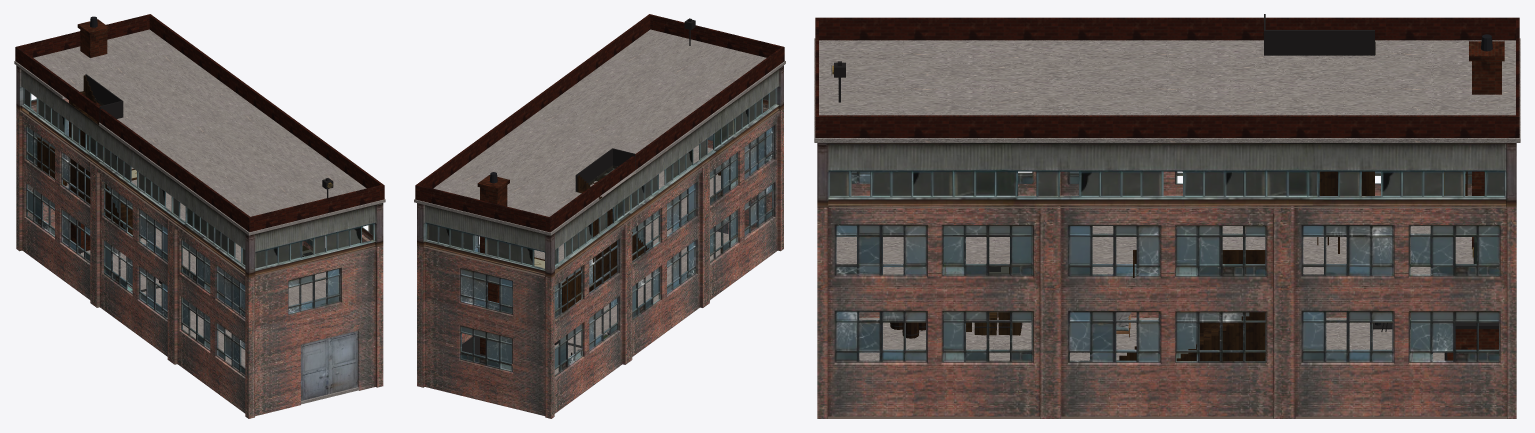
The model's file is marsh-refinery.glb.
3 views of the same model, side by side, from view 1: azimuth 30°, elevation 25°; view 2: azimuth 150°, elevation 25°; view 3: azimuth 270°, elevation 25° (orthographic). The views are drawn at different scales.
Parts seen in each view (by area): view 1: building _building _0, building floor, building top, Mesh_parapet, building windows, Mesh_stair, building _building _02, Mesh_iron, Mesh_firebrick, Mesh_oak4; view 2: building _building _0, building floor, building top, Mesh_parapet, building windows, Mesh_stair, Mesh_iron, Mesh_firebrick, Mesh_oak4, building _building _02; view 3: building _building _0, building floor, building windows, Mesh_parapet, building top, Mesh_stair, Mesh_iron, Mesh_firebrick, Mesh_firebrick2, Mesh_crate, Mesh_firebrick3.
Part boxes in pixels (x1=…): building _building _0: x1=16, y1=98, x2=383, y2=418; building floor: x1=14, y1=29, x2=385, y2=404; building top: x1=16, y1=65, x2=383, y2=278; Mesh_parapet: x1=15, y1=14, x2=384, y2=232; building windows: x1=24, y1=89, x2=372, y2=374; Mesh_stair: x1=69, y1=75, x2=141, y2=238; building _building _02: x1=25, y1=136, x2=376, y2=391; Mesh_iron: x1=85, y1=74, x2=123, y2=122; Mesh_firebrick: x1=80, y1=30, x2=107, y2=106; Mesh_oak4: x1=37, y1=137, x2=67, y2=185; building _building _0: x1=417, y1=104, x2=783, y2=418; building floor: x1=414, y1=29, x2=785, y2=374; building top: x1=417, y1=65, x2=783, y2=278; Mesh_parapet: x1=415, y1=14, x2=784, y2=232; building windows: x1=427, y1=89, x2=775, y2=370; Mesh_stair: x1=577, y1=175, x2=648, y2=292; Mesh_iron: x1=575, y1=148, x2=635, y2=191; Mesh_firebrick: x1=480, y1=185, x2=507, y2=354; Mesh_oak4: x1=562, y1=270, x2=581, y2=312; building _building _02: x1=424, y1=117, x2=777, y2=386; building _building _0: x1=817, y1=171, x2=1516, y2=418; building floor: x1=814, y1=38, x2=1520, y2=360; building windows: x1=830, y1=171, x2=1504, y2=360; Mesh_parapet: x1=815, y1=17, x2=1519, y2=137; building top: x1=817, y1=143, x2=1516, y2=207; Mesh_stair: x1=1117, y1=171, x2=1374, y2=361; Mesh_iron: x1=1264, y1=14, x2=1374, y2=55; Mesh_firebrick: x1=1472, y1=61, x2=1501, y2=249; Mesh_firebrick2: x1=1447, y1=329, x2=1498, y2=360; Mesh_crate: x1=966, y1=312, x2=1022, y2=335; Mesh_firebrick3: x1=1469, y1=41, x2=1504, y2=61.
Size of what is drawn, in the model's own units: 8.71 by 13.48 by 25.88.
40 materials, 16 textured.
